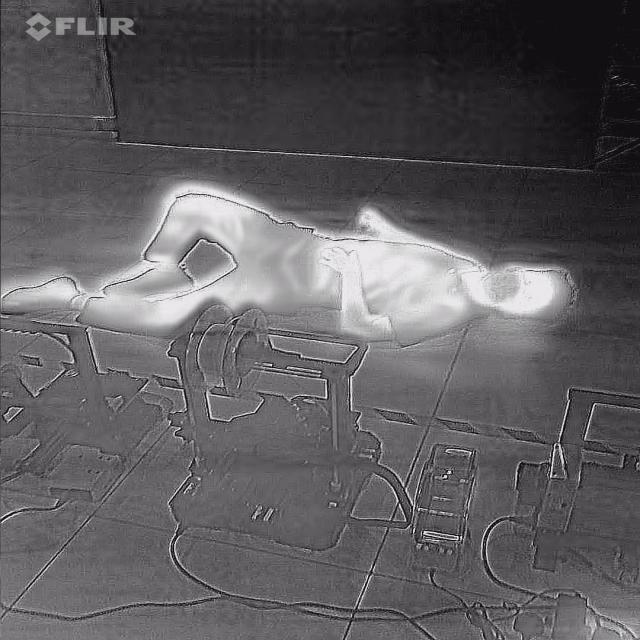Victim: (0, 185, 592, 347)
